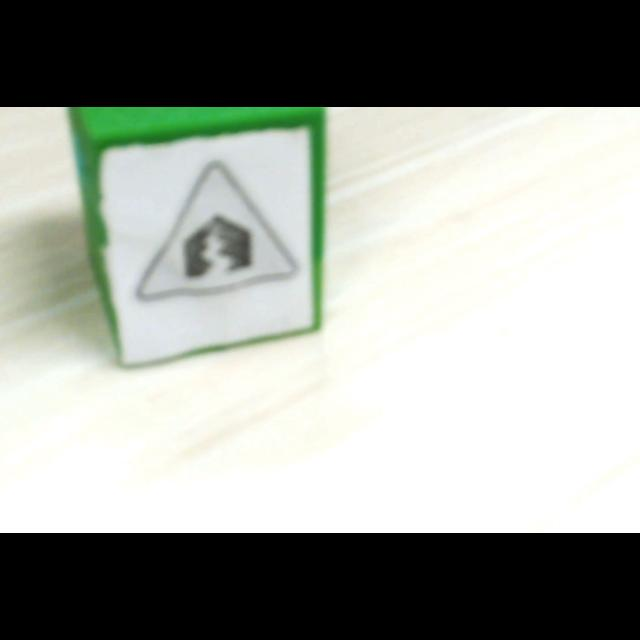Earthquake: (135, 162, 301, 314), (134, 164, 300, 304)
